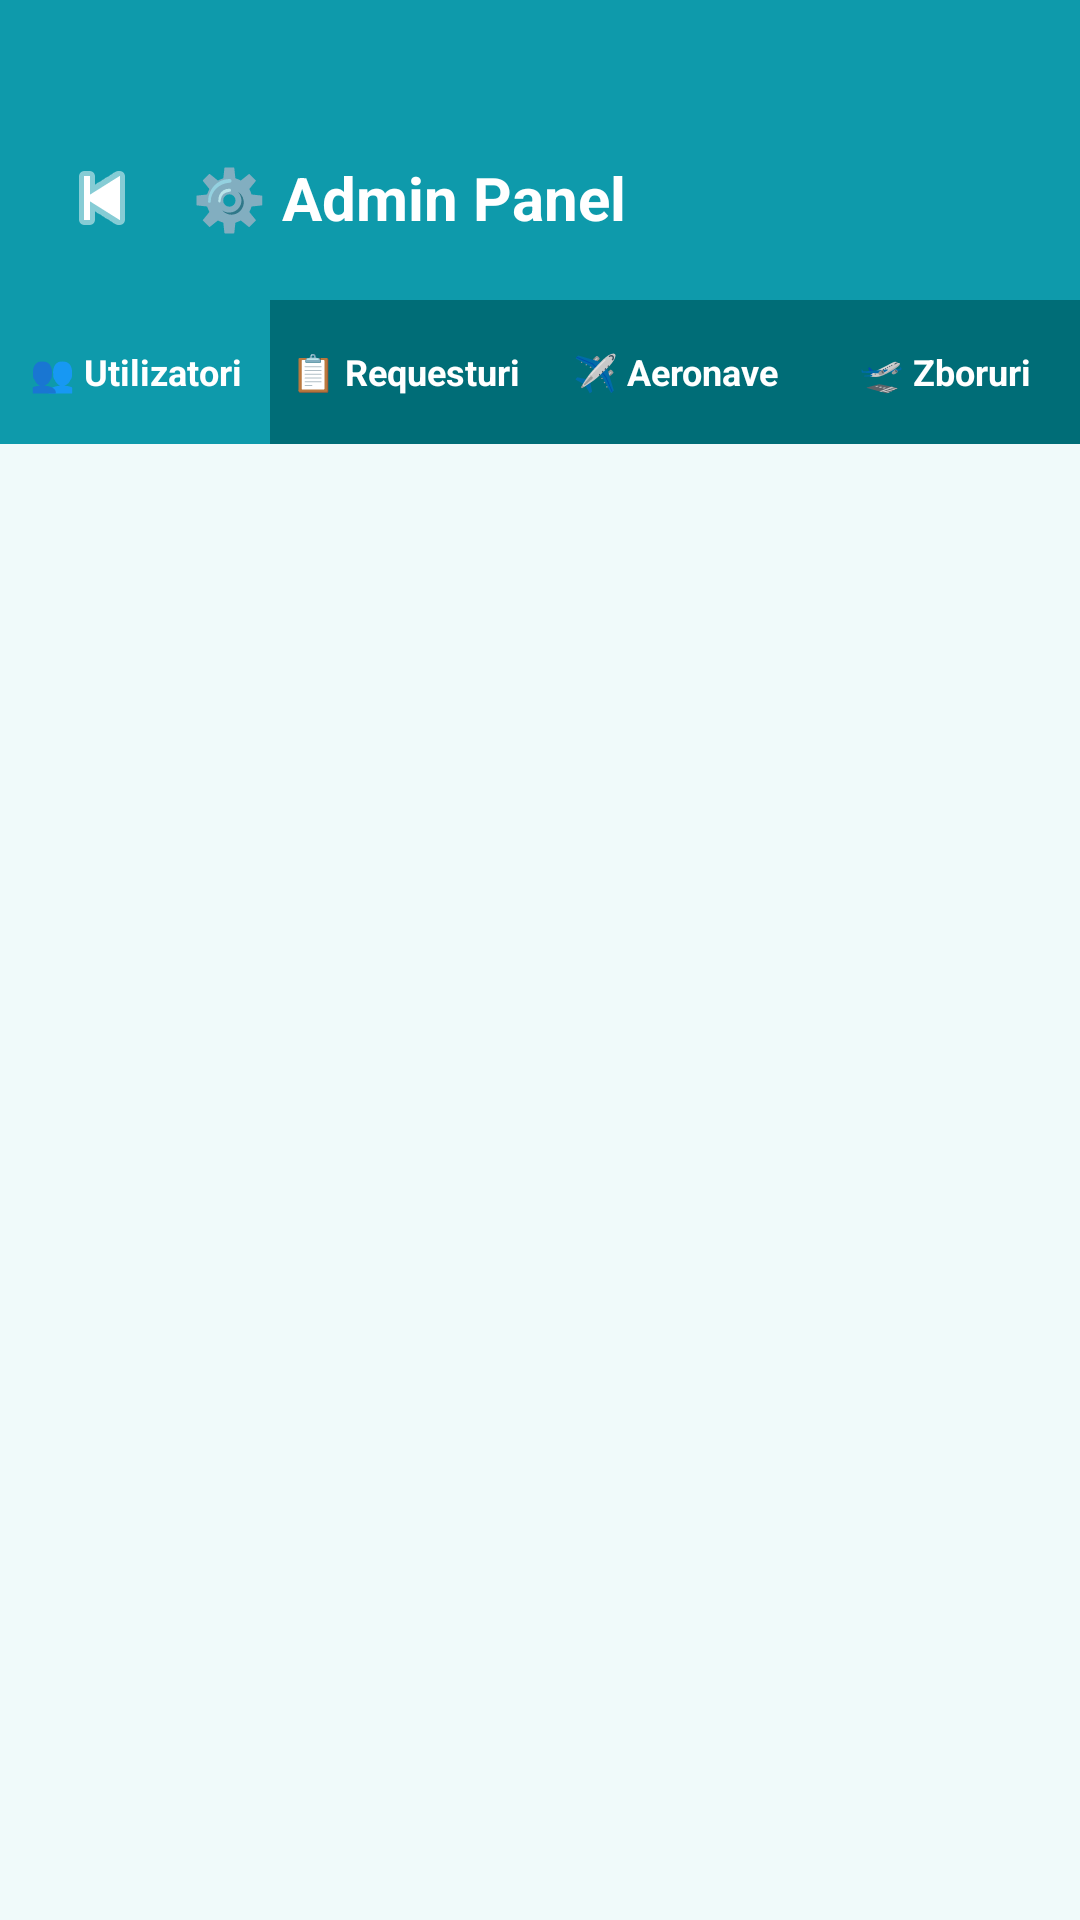

Named icons in this screenshot (1080 x 1920) and their bounding boxes, (x1, y1, x2, y2):
previous: (79, 171, 125, 225)
